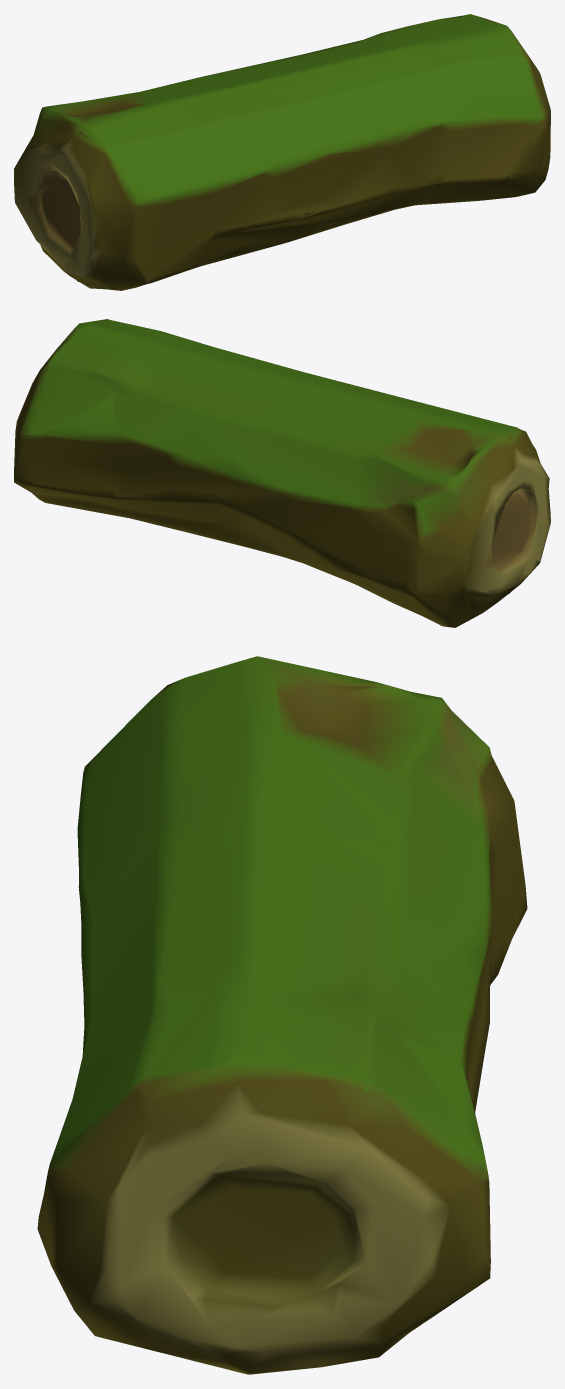
Rendered from gen3d-mossy-fallen-log-lod0.glb.
3 renders of one model, top to bottom at view 1: azimuth 30°, elevation 25°; view 2: azimuth 150°, elevation 25°; view 3: azimuth 270°, elevation 25°, orthographic. The views are drawn at different scales.
Parts seen in each view (by area): view 1: part_0; view 2: part_0; view 3: part_0.
Boxes of the visible parts, left/top/right/bottom form: part_0: left=14, top=14, right=550, bottom=290; part_0: left=14, top=319, right=550, bottom=627; part_0: left=37, top=656, right=527, bottom=1374.
Bounding box in the file's own units: 2.88 × 0.9947 × 1.36.
